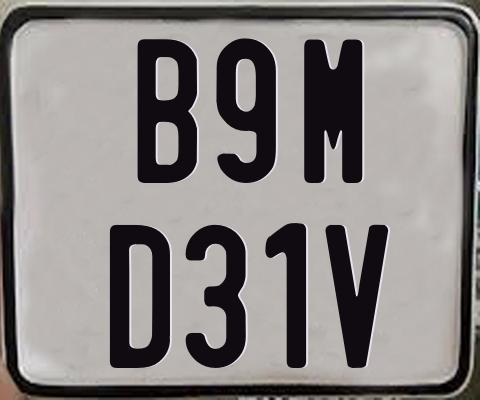1: (265, 222, 312, 372)
3: (183, 222, 248, 367)
9: (216, 36, 281, 183)
B: (137, 36, 197, 181)
D: (109, 225, 172, 372)
M: (303, 37, 367, 187)
V: (324, 224, 390, 372)
